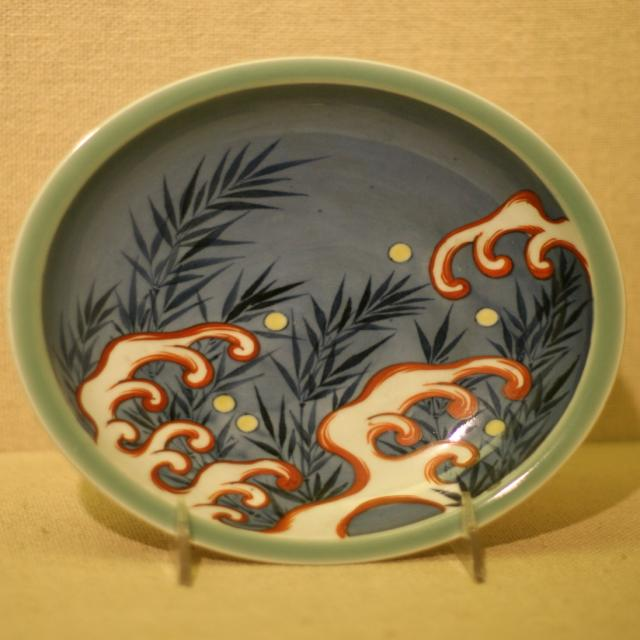non-organic waste: (45, 46, 590, 600)
